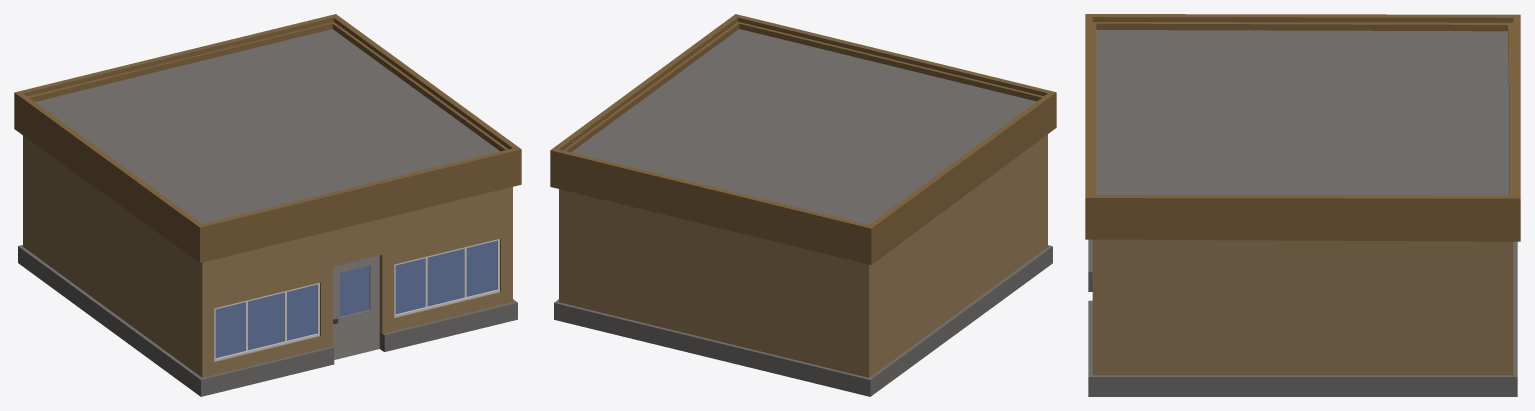
File: House_02.fbx
3 renders of one model, left to right at view 1: azimuth 30°, elevation 25°; view 2: azimuth 150°, elevation 25°; view 3: azimuth 270°, elevation 25°, orthographic. The views are drawn at different scales.
Visible parts, largest first — view 1: House_02; view 2: House_02; view 3: House_02.
Part boxes in pixels (x1,y1,x2,y2): House_02: (14, 14, 521, 396); House_02: (550, 14, 1056, 396); House_02: (1085, 14, 1520, 396).
Size of the model in its own units: 706 by 358 by 706.
Materials: 1 (1 with a texture image).
